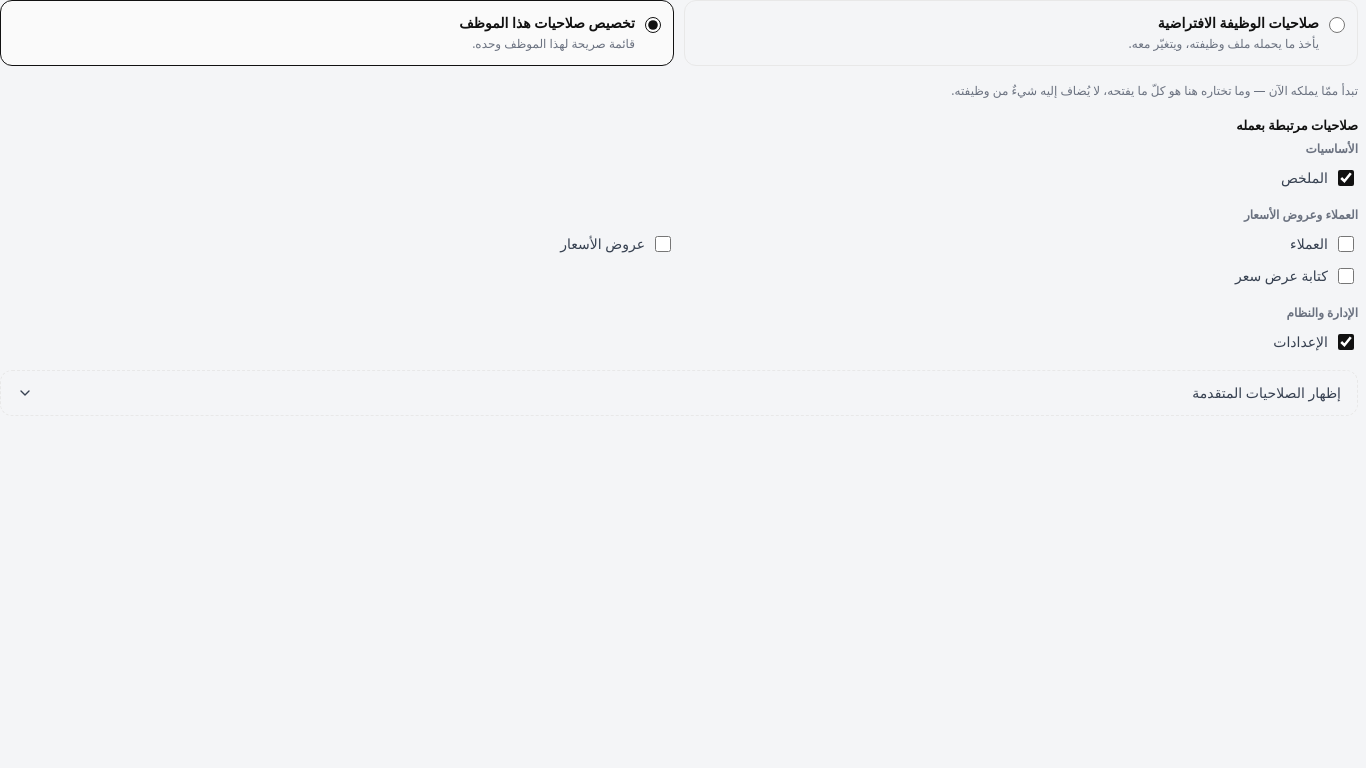
Test: EmployeePermissions › asks before returning to the job title, and only then drops the customization
The image size is (1366, 768).
Click the radio button labelled "صلاحيات الوظيفة الافتراضية" at (1337, 25), box [1329, 17, 1345, 33]
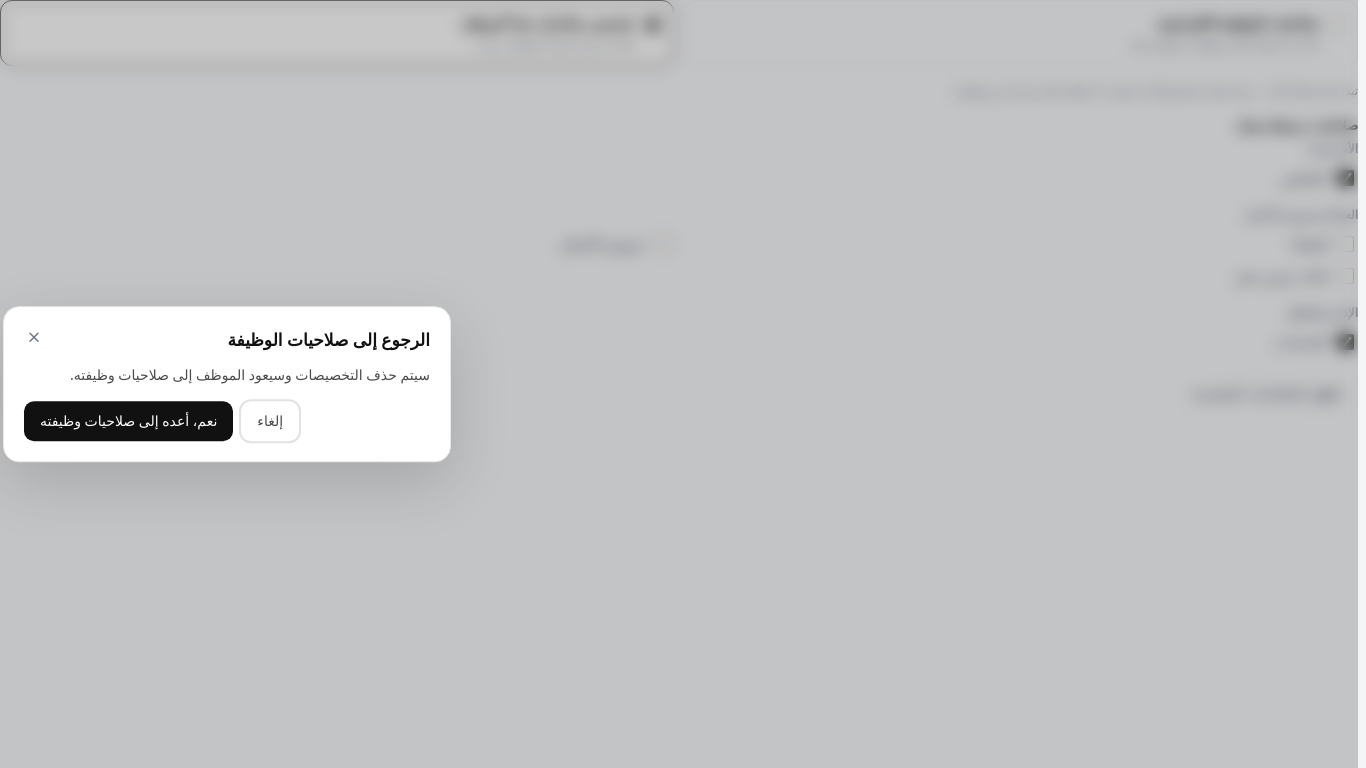
Expected: the dialog shows "سيتم حذف التخصيصات وسيعود الموظف إلى صلاحيات وظيفته.", [70, 365, 430, 384]
// الإلغاءُ يبقيه مخصّصًا
Click the button "إلغاء" at (270, 421), box [241, 401, 299, 441]
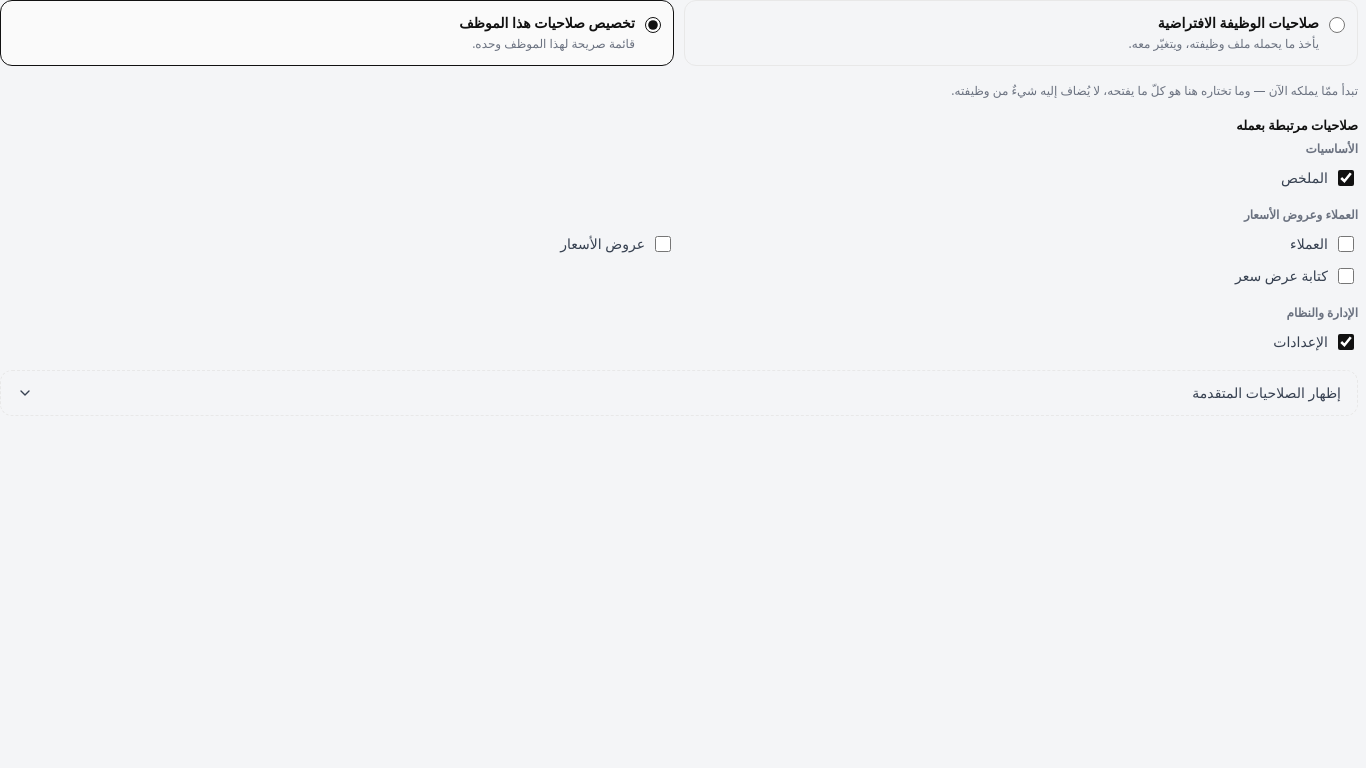
Expected: the radio button labelled "تخصيص صلاحيات هذا الموظف قائمة صريحة لهذا الموظف وحده." is checked, [645, 17, 661, 33]
Click the radio button labelled "صلاحيات الوظيفة الافتراضية" at (1337, 25), box [1329, 17, 1345, 33]
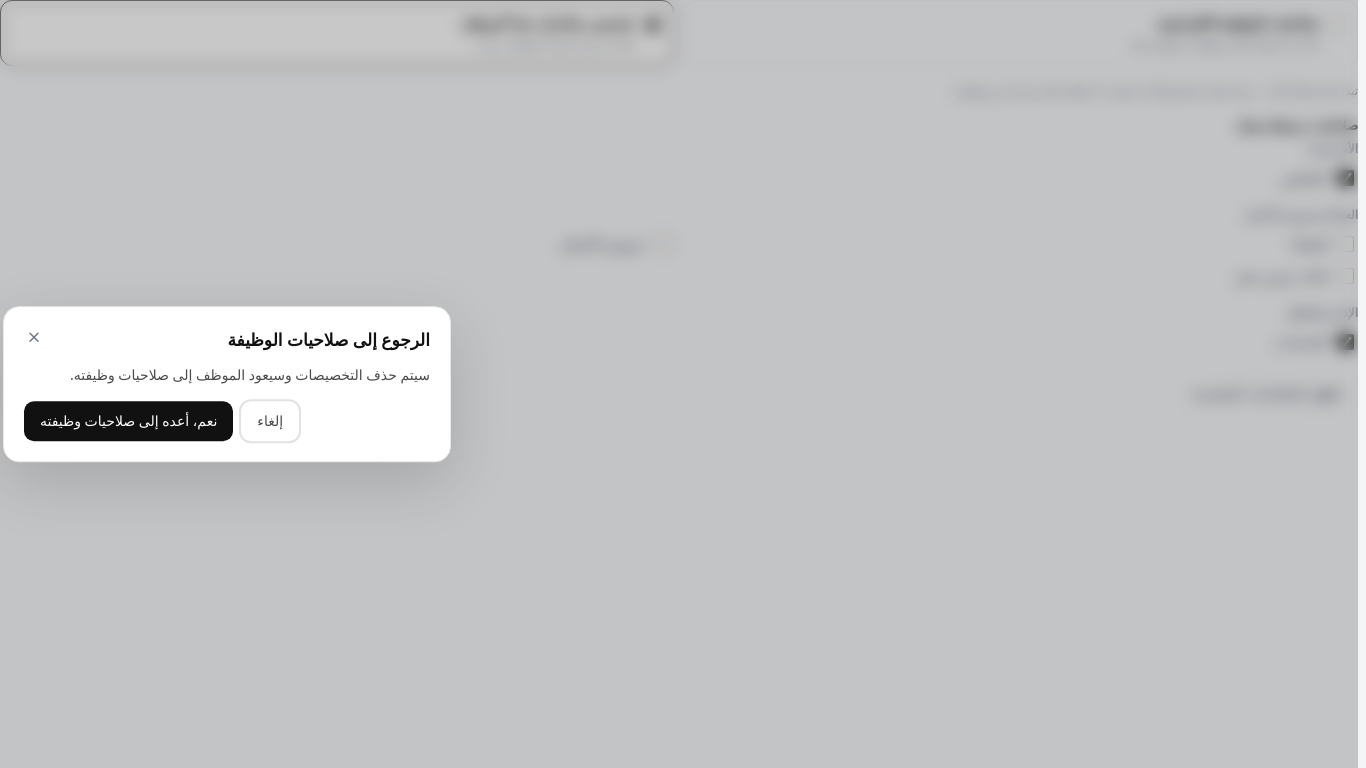
Click the button "نعم، أعده إلى صلاحيات وظيفته" at (129, 421), box [24, 401, 233, 441]
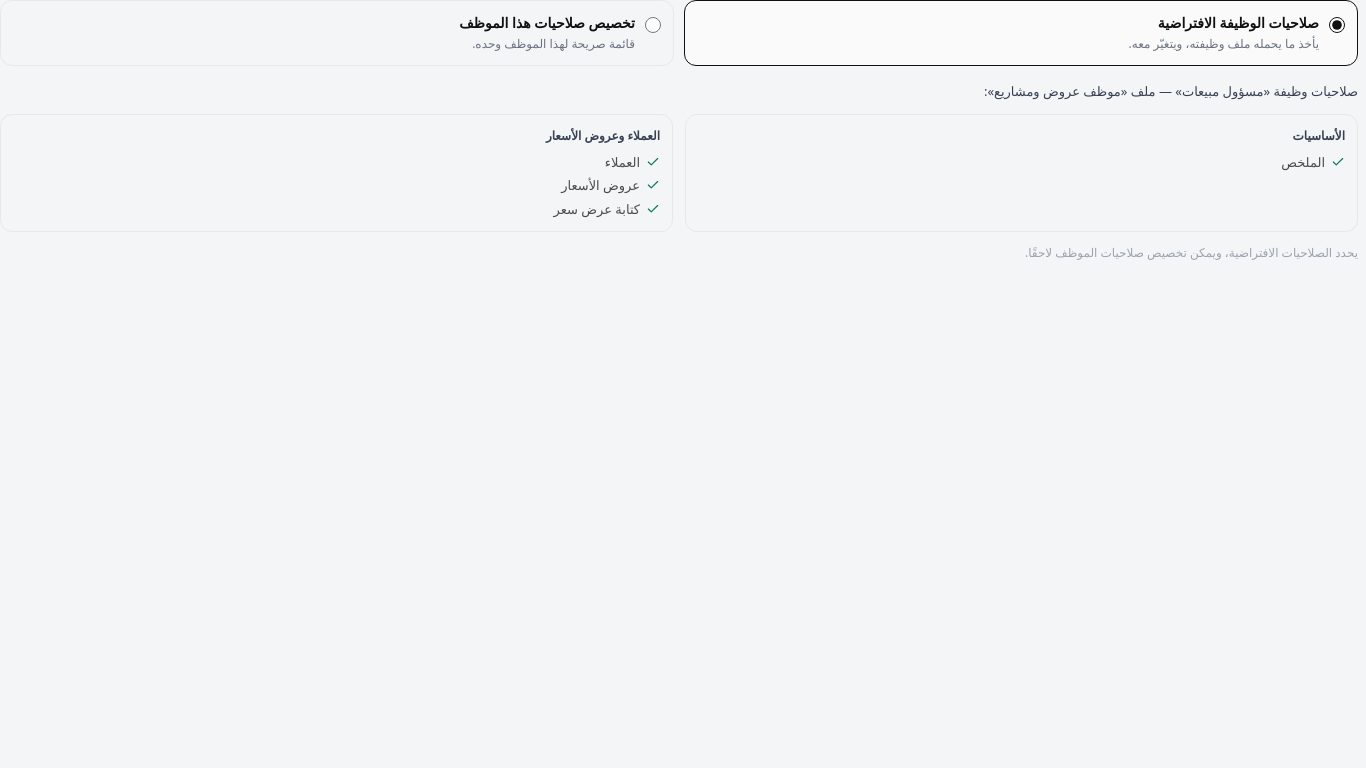
Expected: the radio button labelled "صلاحيات الوظيفة الافتراضية" is checked, [1329, 17, 1345, 33]
Expected: the element with test id "inherited-preview" is shown, [0, 82, 1358, 262]
